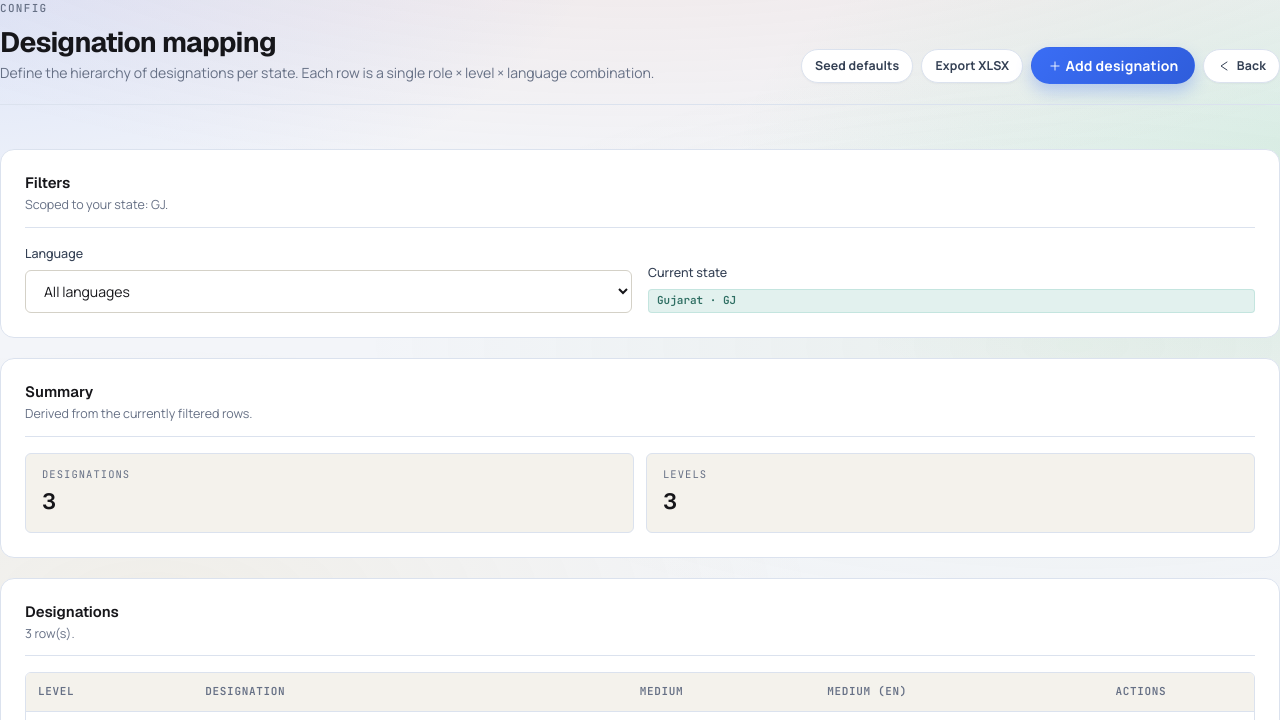
Test case: DesignationMapping — Add flow › clicking Add opens the form; submitting creates a new row with the correct payload
Click the button with test id "dm-add": [1113, 66] box top-left (1031, 47), bottom-right (1195, 84)
(page scrolled)
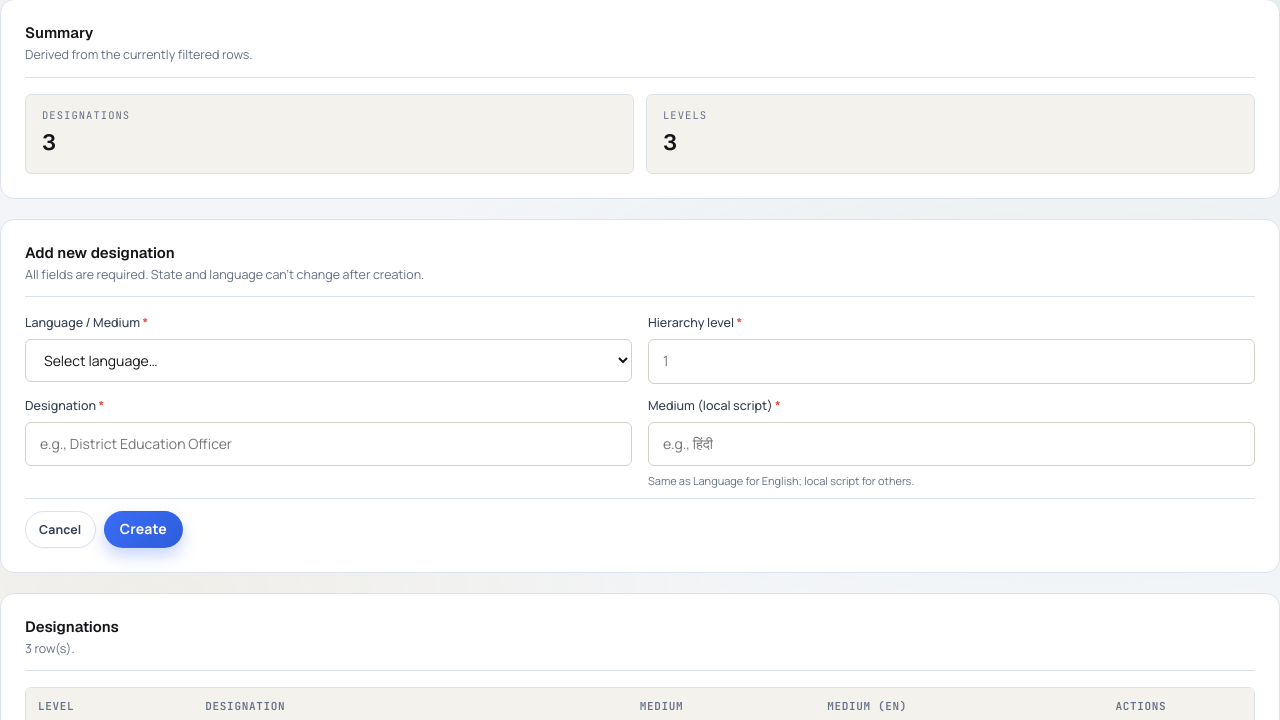
Select "Hindi" in the dropdown labelled "Language / Medium *": [328, 361] box top-left (25, 339), bottom-right (632, 382)
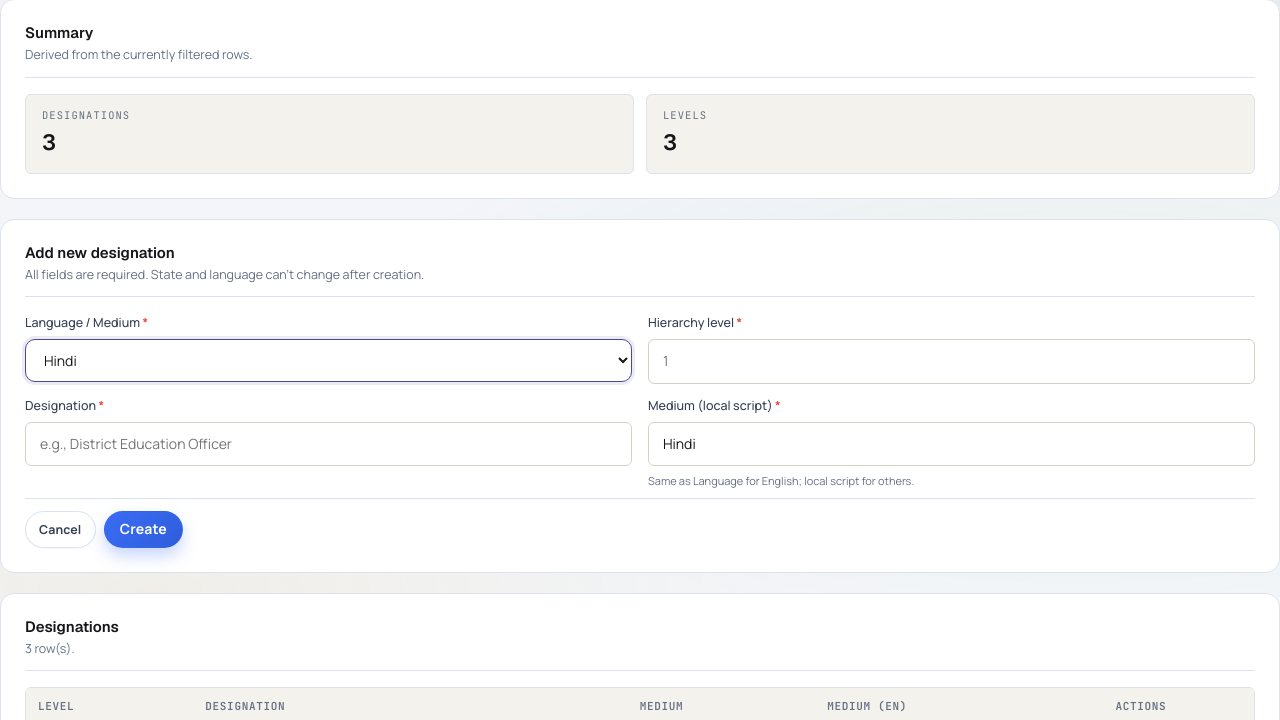
In the number field labelled "Hierarchy level *": [952, 362] box top-left (648, 339), bottom-right (1255, 384), type "4"
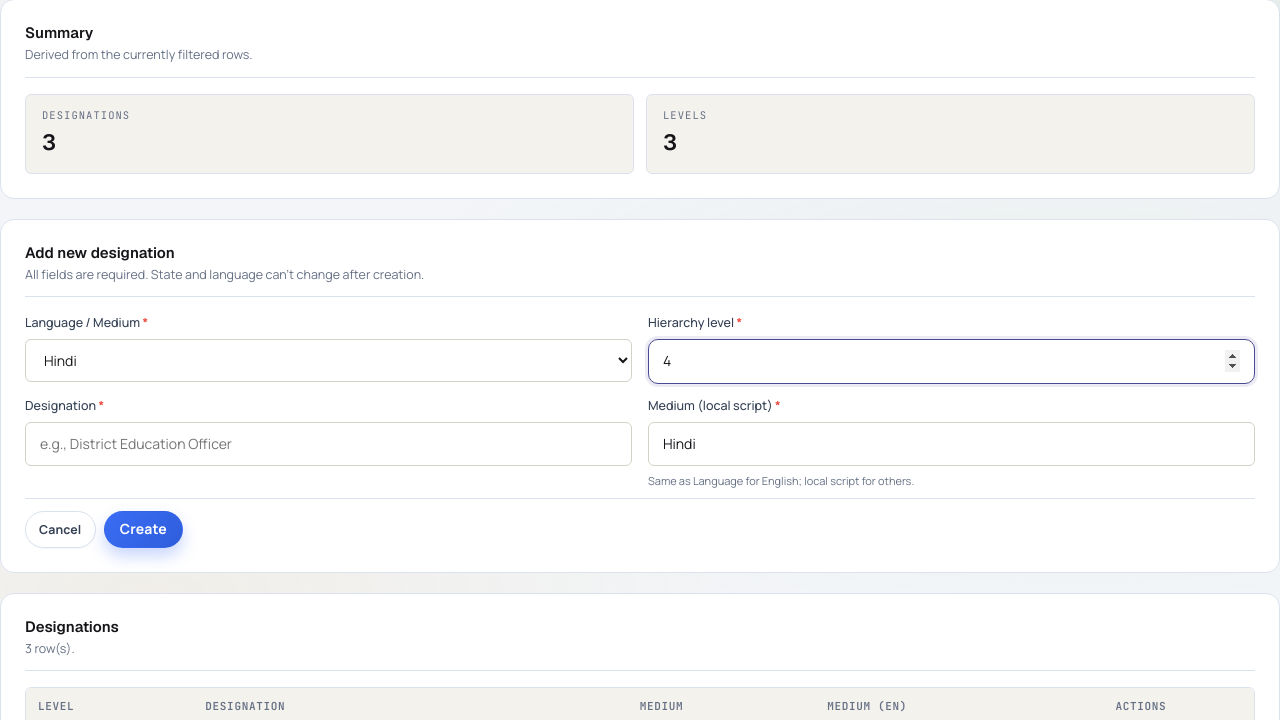
In the field labelled "Designation *": [328, 444] box top-left (25, 422), bottom-right (632, 466), type "New Role"
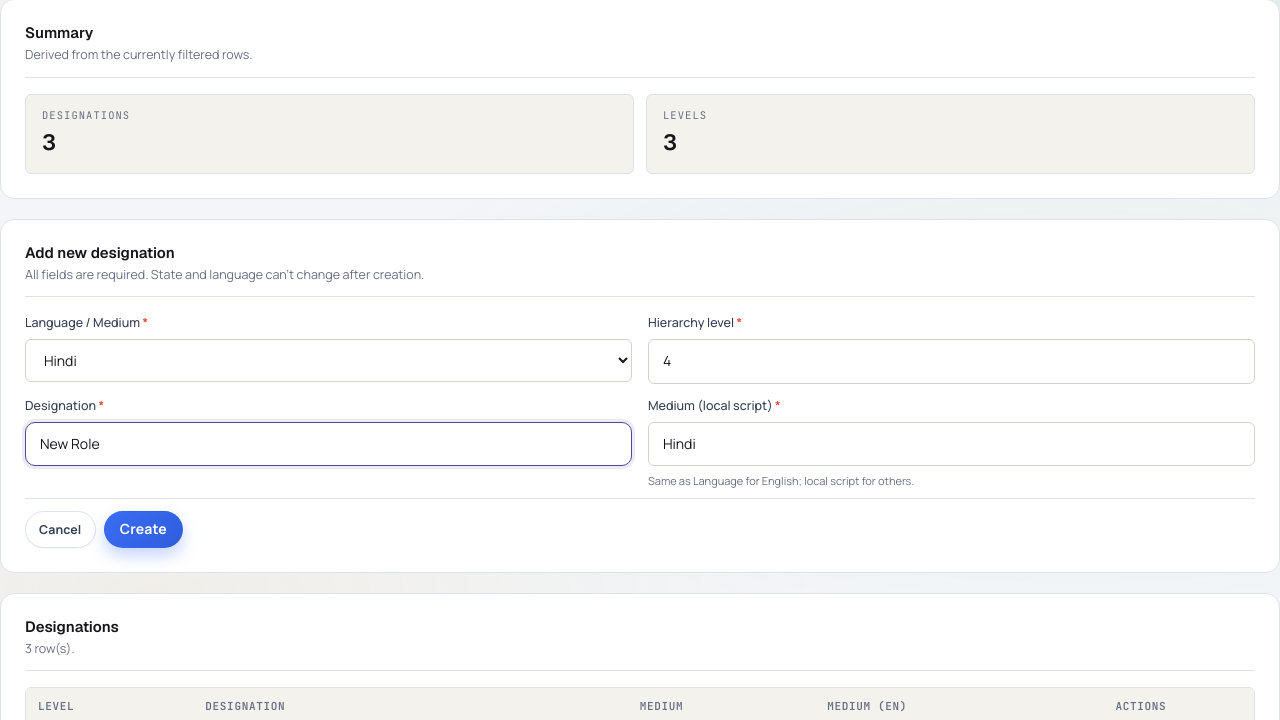
Medium (local script) — clear first to drop the auto-synced "Hindi"
Replace the text in the field labelled "Medium (local script) *" with "हिन्दी": [952, 444] box top-left (648, 422), bottom-right (1255, 466)
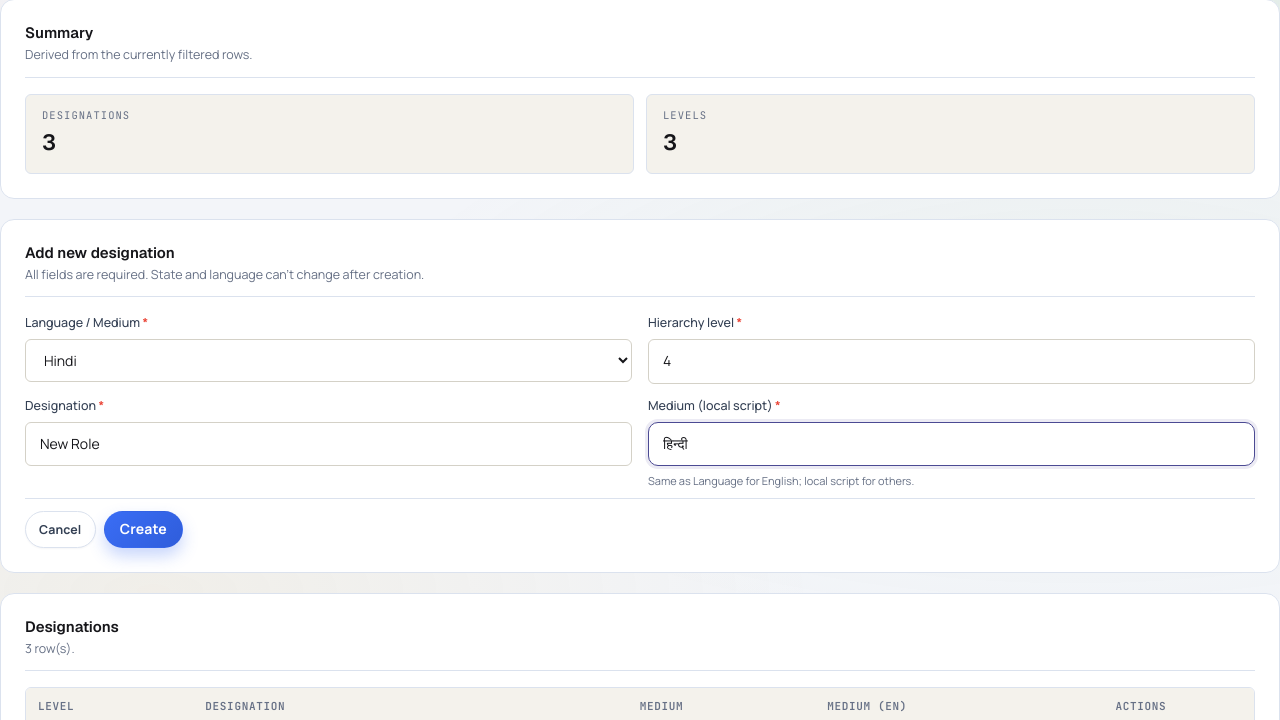
Click the button with test id "dm-form-save": [143, 529] box top-left (104, 511), bottom-right (183, 548)
(page scrolled)
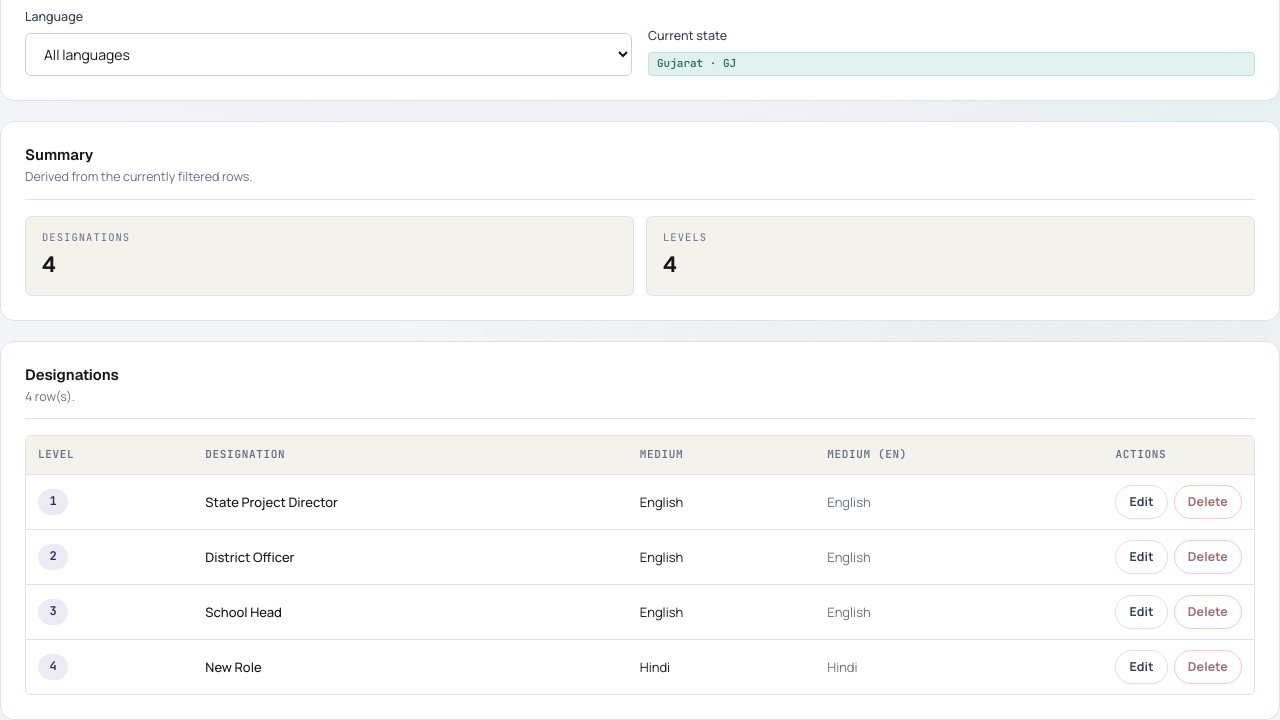
Now the element with test id "dm-form" is gone
